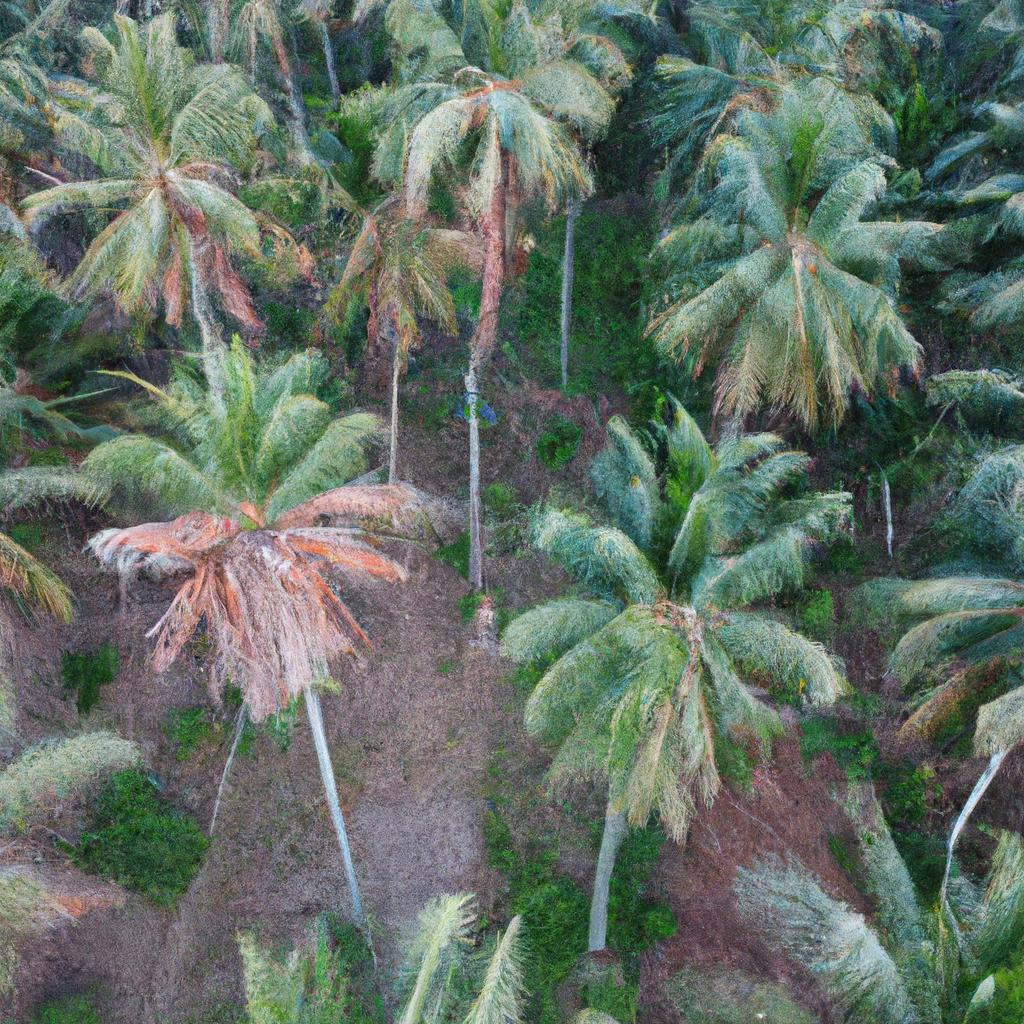coconut_tree: (519, 393, 876, 880), (90, 345, 446, 770), (616, 113, 962, 420), (38, 26, 333, 350), (365, 2, 673, 243)
